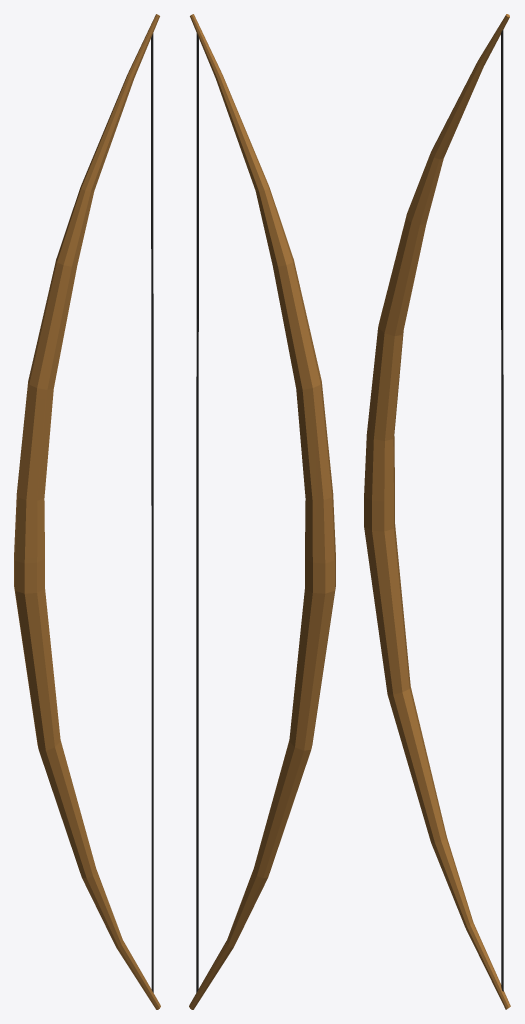
File: simple_bow.glb
The picture shows the model from 3 angles, left to right: view 1: azimuth 30°, elevation 25°; view 2: azimuth 150°, elevation 25°; view 3: azimuth 330°, elevation 25°; orthographic projection.
Visible parts, largest first — view 1: Bow 4; view 2: Bow 4; view 3: Bow 4.
Boxes of the visible parts, x1,y1,x2,y2 form: Bow 4: [14, 14, 160, 1009]; Bow 4: [189, 14, 335, 1009]; Bow 4: [364, 14, 510, 1009].
Size of the model in its own units: 0.177 by 1.16 by 0.0319.
